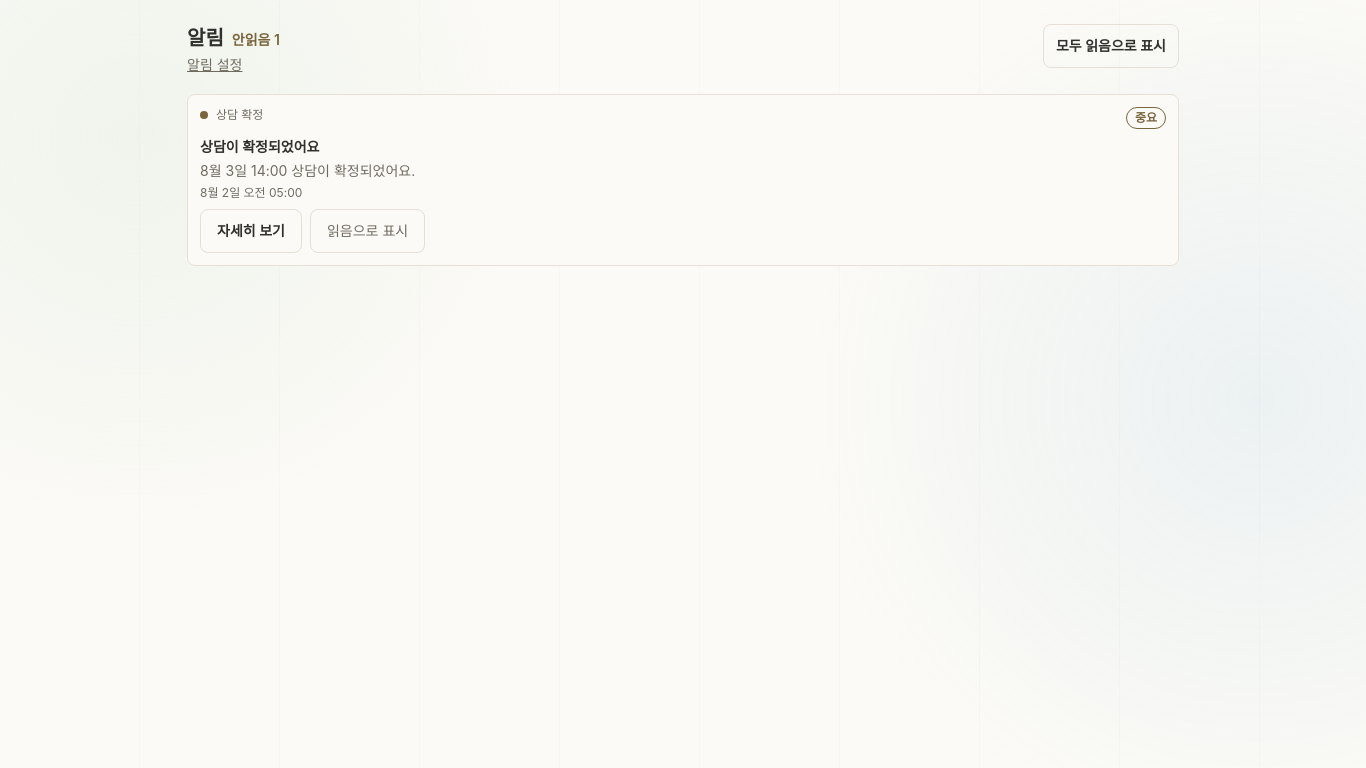
Test case: NotificationsPage › restores the previous list when mark-all-read is denied by the server
The width and height of the screenshot is (1366, 768).
Click the button "모두 읽음으로 표시" at (1111, 46), box [1043,24,1179,68]
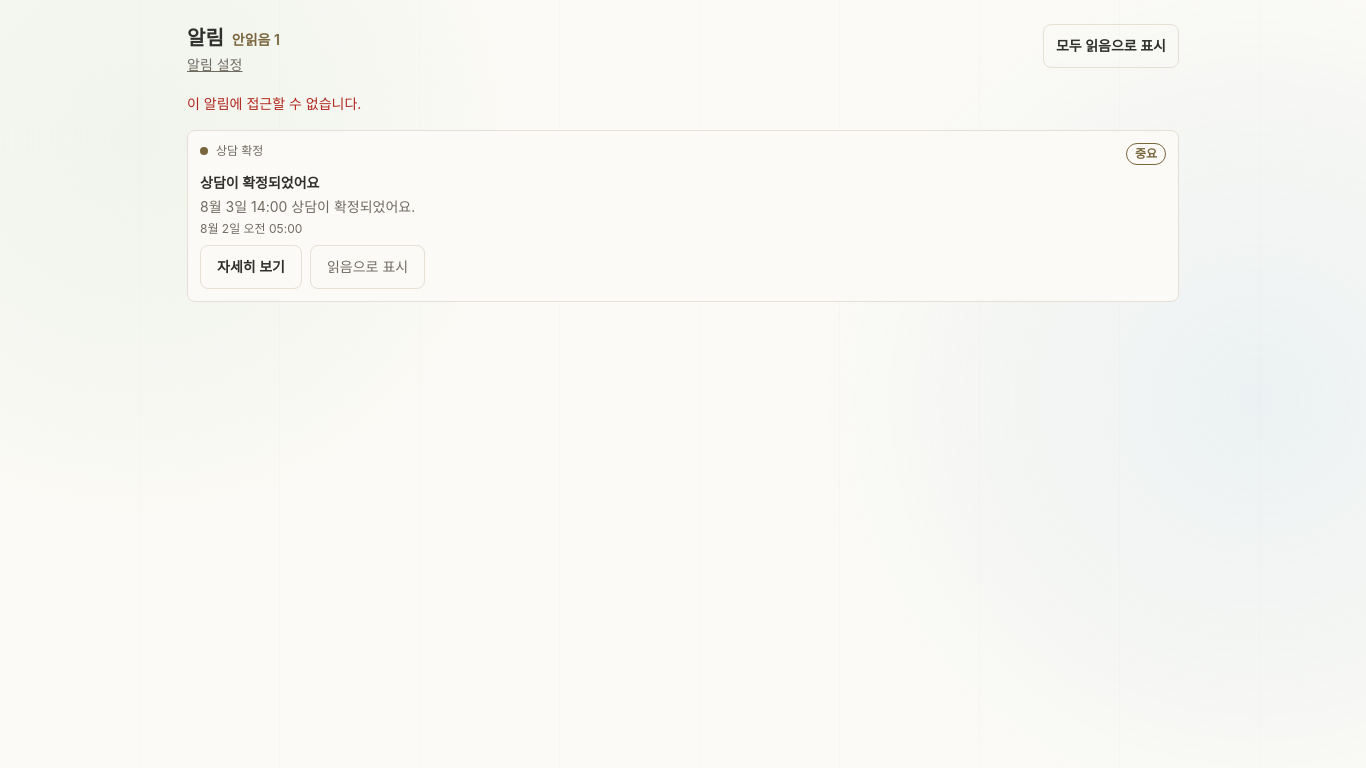
Expected: the text "안읽음 1" is shown, [232,31,280,48]
Expected: the message reads "이 알림에 접근할 수 없습니다.", [187,95,361,112]
